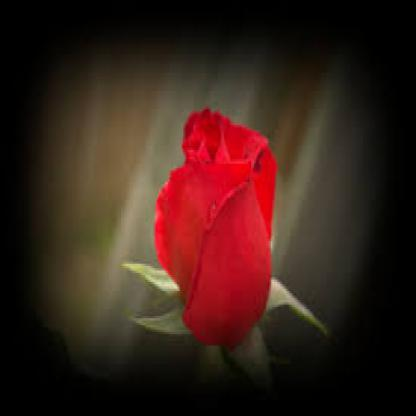Rose-Mawar: (153, 95, 283, 363)
